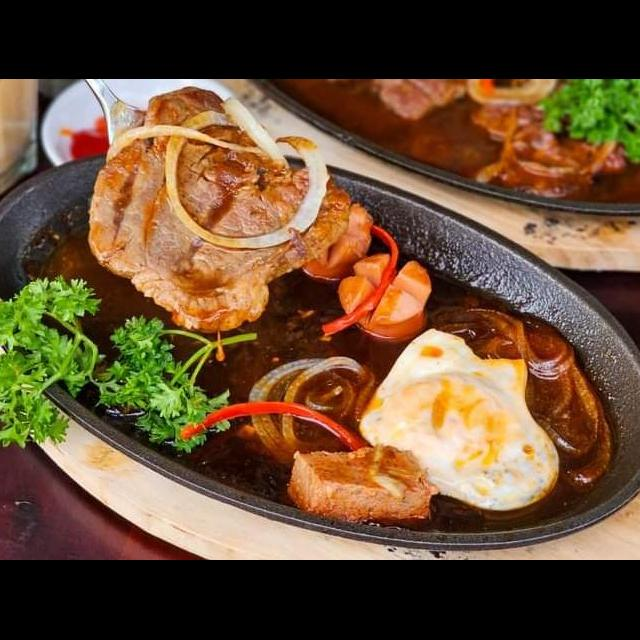thit bo: (84, 85, 354, 338), (282, 440, 442, 530)
trung: (354, 326, 560, 514)
